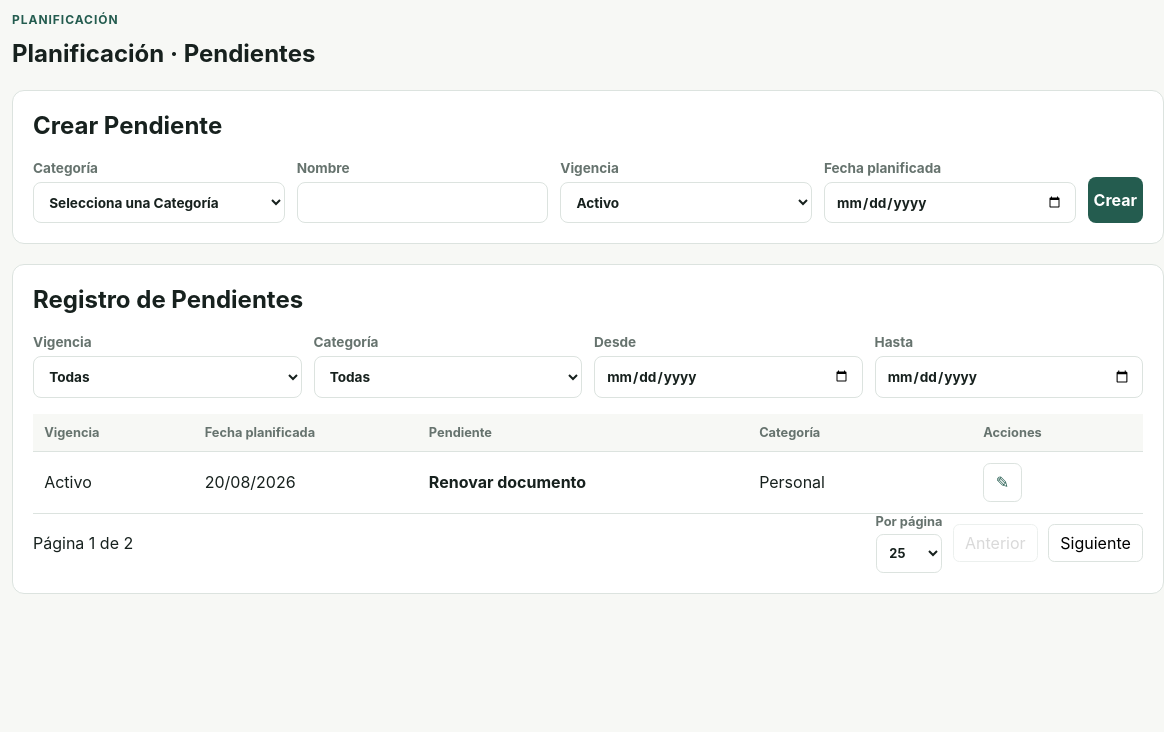
Scenario: PlanningPendingItemsPage › discards stale editing state after a 409
The image size is (1164, 732).
Click the button named "Editar Renovar documento" at (1002, 482), box [983,463,1022,502]
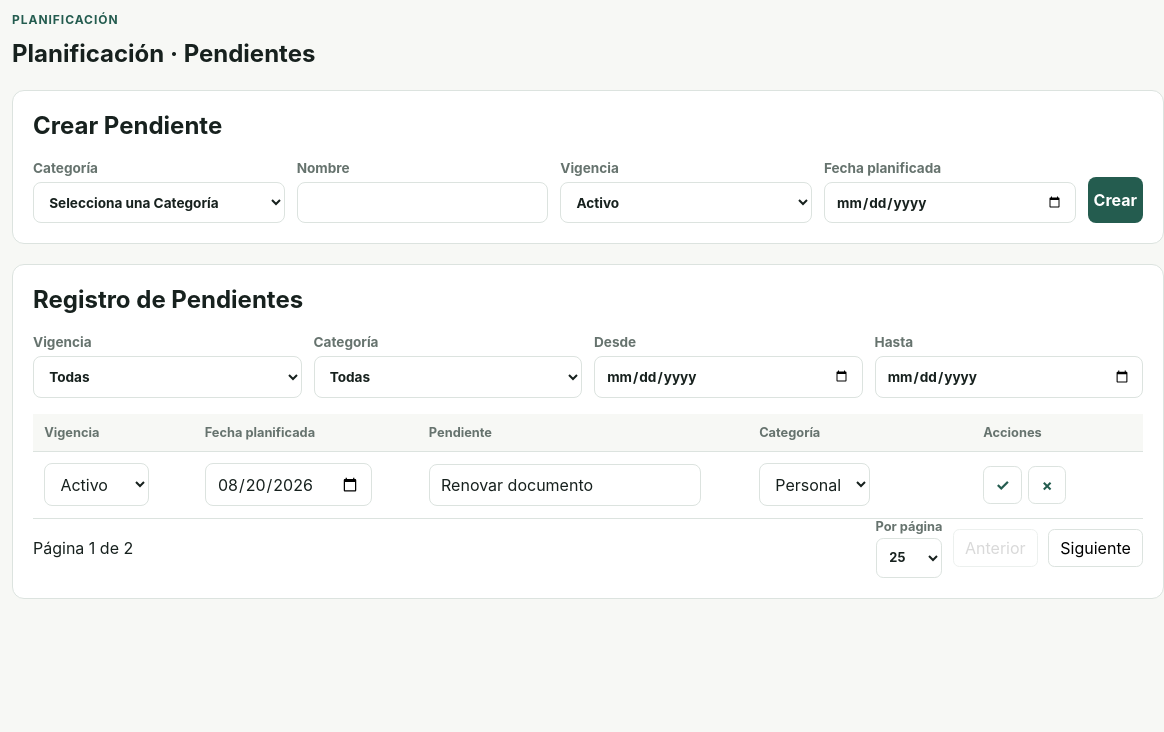
Click the button named "Guardar Renovar documento" at (1002, 485), box [983,466,1022,504]
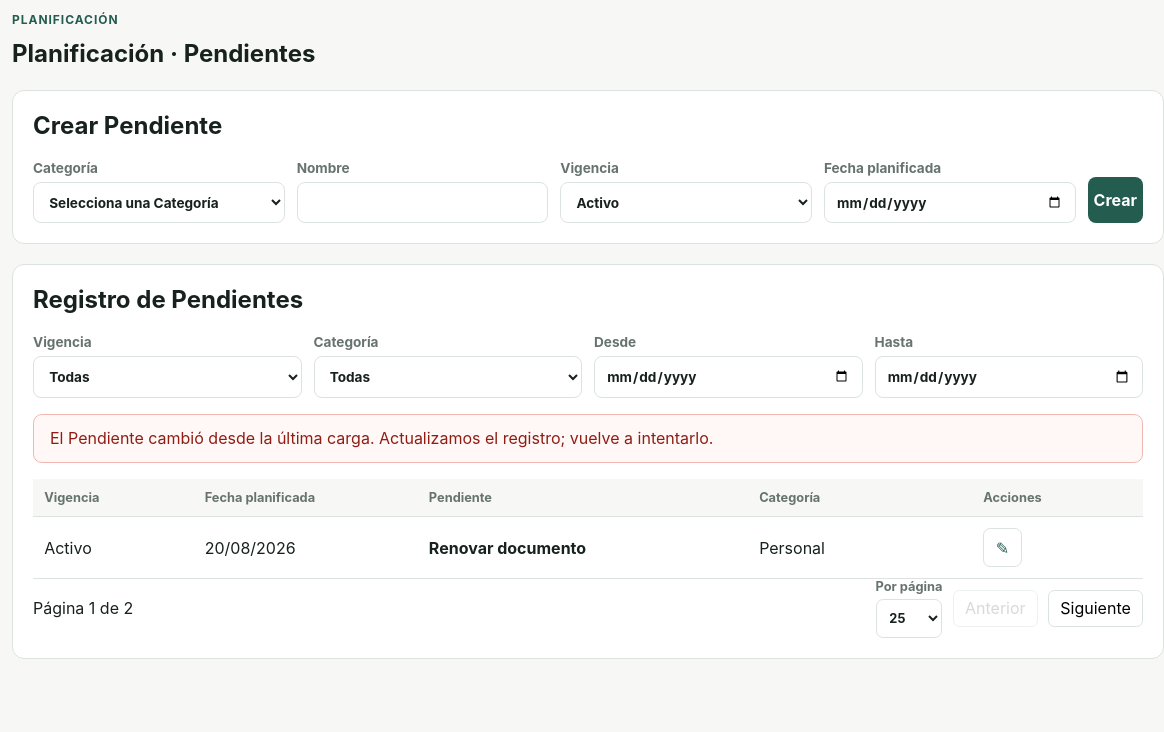
Expected: the field labelled "Nombre de Renovar documento" is not shown
Expected: the message shows "cambió desde la última carga", [50,428,713,448]
